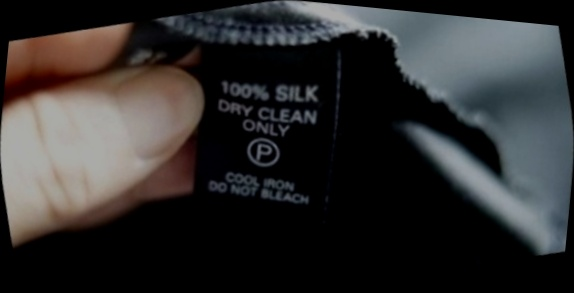dry_clean_any_solvent_except_trichloroethylene: (233, 121, 296, 182)
